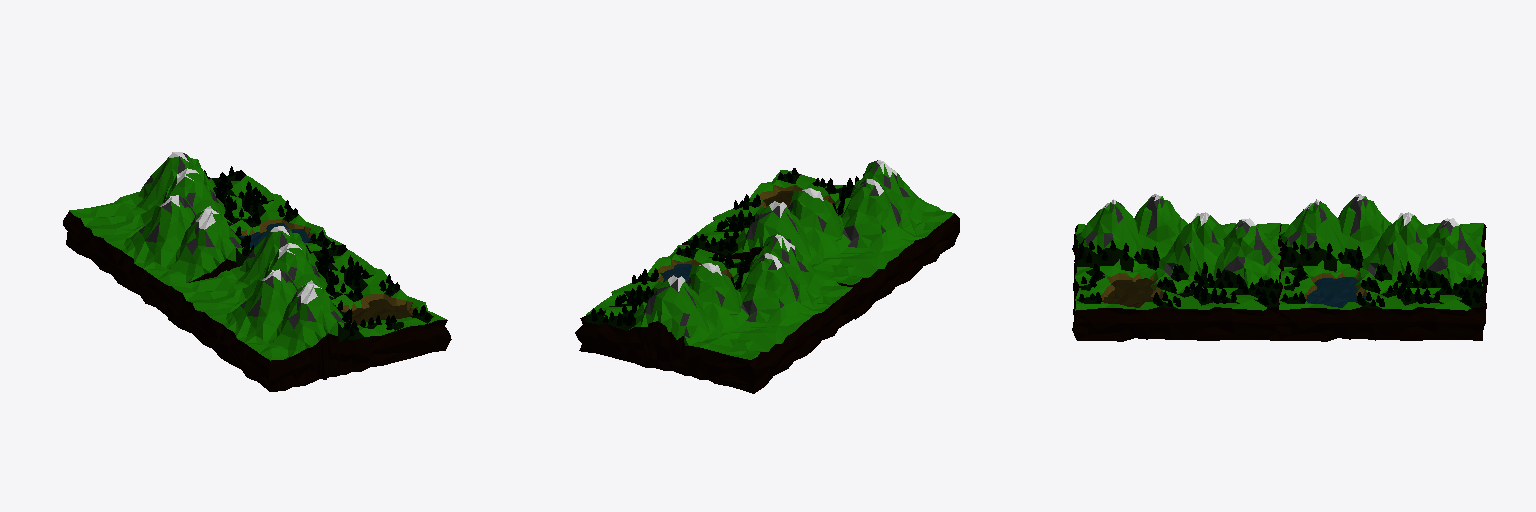
The model's file is mountains.obj.
3 views of the same model, side by side, from view 1: azimuth 30°, elevation 25°; view 2: azimuth 150°, elevation 25°; view 3: azimuth 270°, elevation 25° (orthographic).
Visible parts, largest first — view 1: Plane.006, Plane, Plane.005; view 2: Plane, Plane.006; view 3: Plane.006, Plane, Plane.001, Plane.005.
Boxes of the visible parts, <box> form: Plane.006: <box>165,226,451,391</box>; Plane: <box>63,152,345,316</box>; Plane.005: <box>344,299,412,325</box>; Plane: <box>575,234,858,393</box>; Plane.006: <box>682,160,959,319</box>; Plane.006: <box>1072,194,1283,341</box>; Plane: <box>1276,194,1487,341</box>; Plane.001: <box>1306,277,1365,307</box>; Plane.005: <box>1103,278,1161,307</box>.
Size of the model in its own units: 107 by 46.94 by 210.